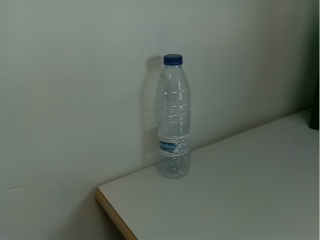botella plastico: (154, 52, 193, 182)
